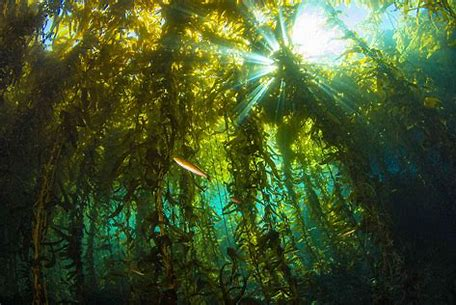inorganic: (5, 10, 455, 273)
